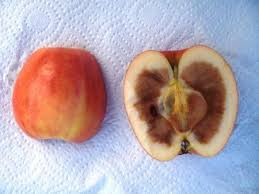apple: (16, 48, 110, 144)
damaged_apple: (124, 47, 238, 159)
